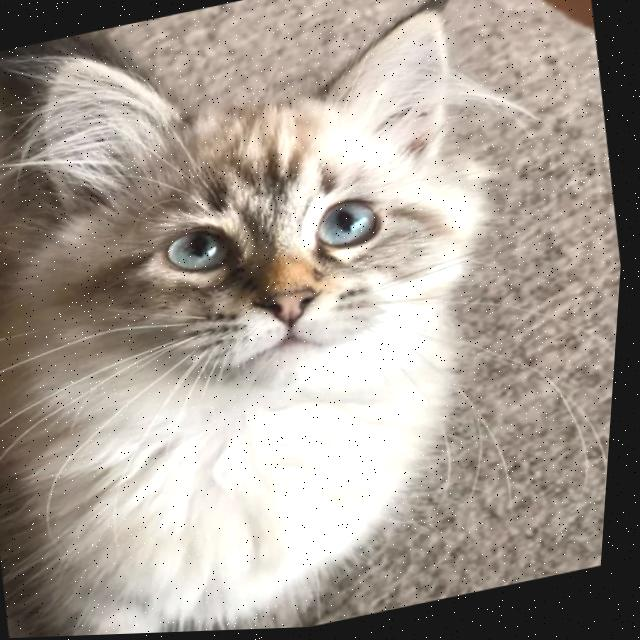Neva Masquerade: (0, 0, 583, 640)
